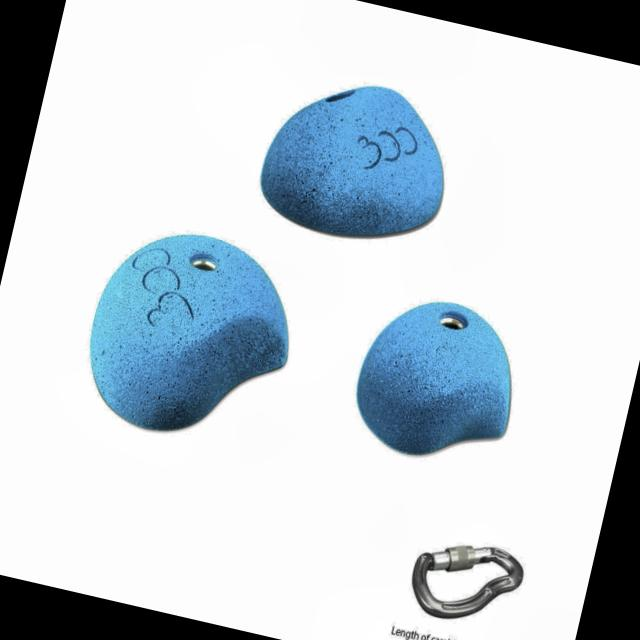Hold: (72, 214, 312, 456), (248, 64, 464, 257), (346, 284, 531, 474)
